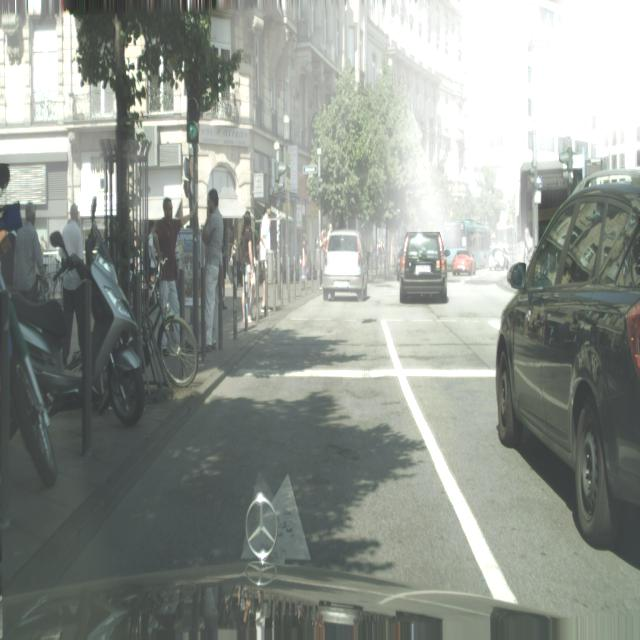bus: (11, 204, 145, 428), (4, 284, 58, 490)
car: (137, 251, 199, 396)
person: (50, 204, 90, 379), (153, 197, 182, 333), (201, 188, 224, 354), (13, 201, 49, 301), (0, 164, 22, 286), (239, 211, 256, 329), (258, 206, 272, 318)
truck: (494, 168, 640, 547), (398, 231, 448, 302), (322, 230, 368, 301), (451, 250, 477, 276), (488, 246, 508, 271)
